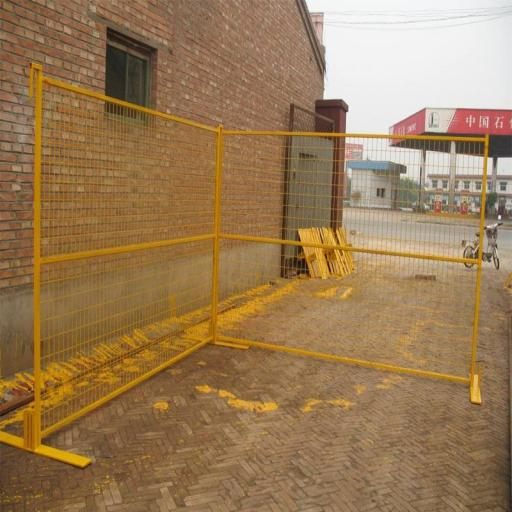bag: (454, 220, 508, 276)
bus_stop: (0, 59, 222, 471), (216, 118, 492, 405)
